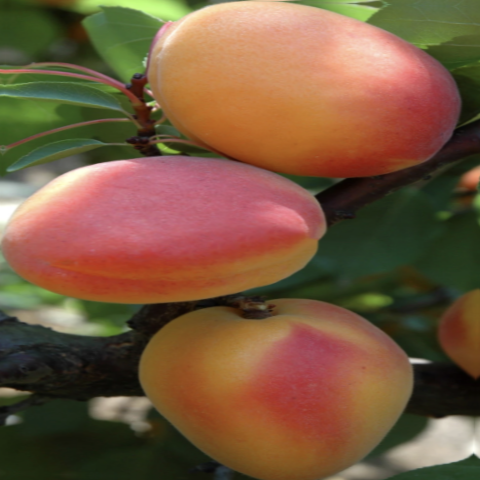mango: (124, 0, 480, 186), (114, 275, 438, 474), (0, 134, 333, 321)
